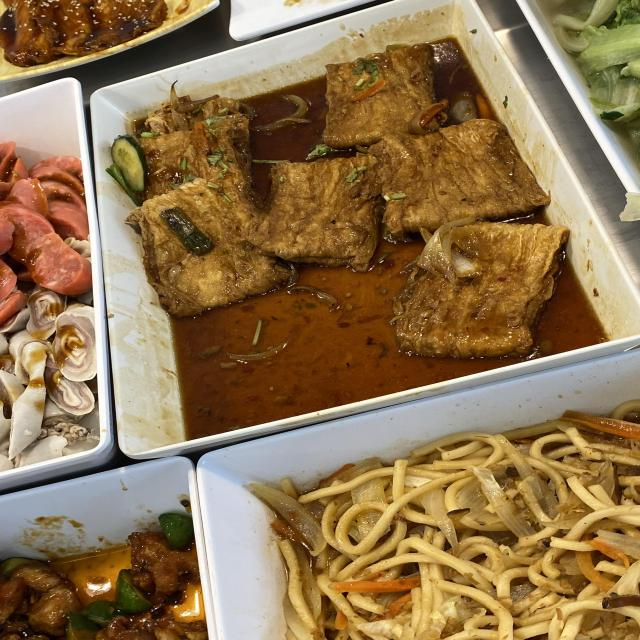bean bag: (183, 111, 487, 322)
